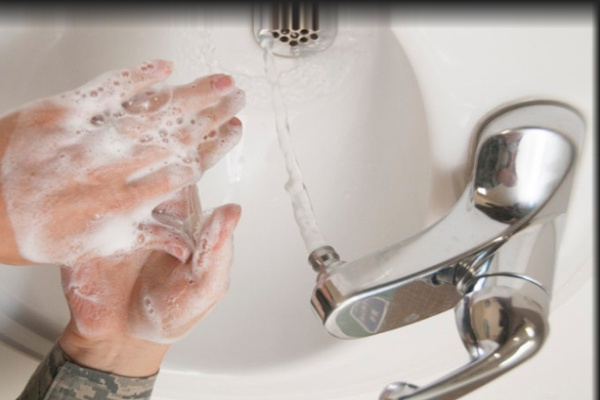washing hand: (0, 32, 437, 397)
